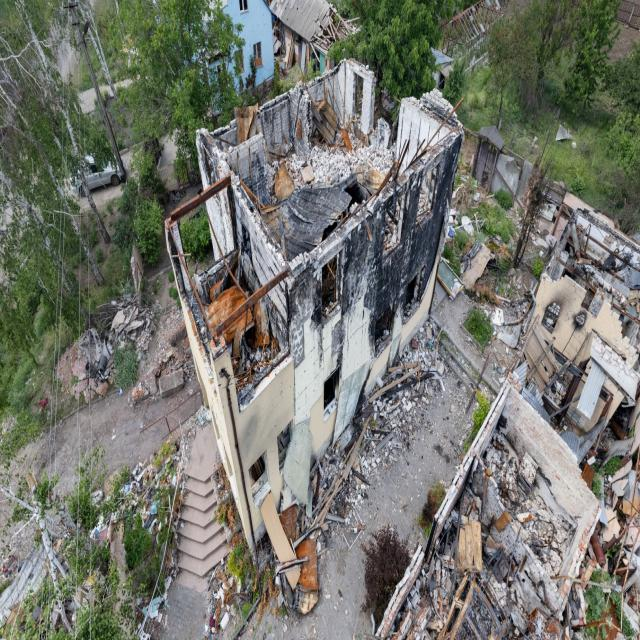broken_window: (320, 252, 340, 319), (248, 450, 270, 505), (322, 364, 340, 421)
building: (164, 56, 465, 569)
